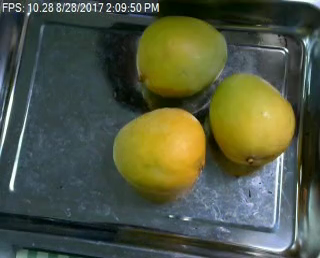Mango: (111, 106, 205, 193), (210, 73, 296, 167), (136, 15, 228, 96)
